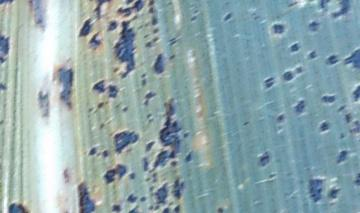tarspot: (112, 15, 139, 82), (156, 97, 182, 161), (54, 66, 75, 111), (111, 127, 141, 156), (75, 180, 97, 213), (26, 1, 48, 33), (103, 162, 126, 185), (115, 1, 146, 18), (307, 176, 325, 203), (342, 47, 360, 72), (330, 1, 352, 20), (153, 181, 169, 206), (89, 1, 110, 20), (36, 89, 49, 119), (168, 177, 184, 201), (150, 150, 168, 171), (78, 18, 96, 38), (1, 34, 12, 65), (151, 53, 166, 75), (87, 30, 103, 49), (6, 202, 31, 213), (105, 82, 120, 99), (142, 90, 156, 108), (328, 185, 342, 202), (262, 75, 277, 90), (257, 151, 271, 167), (292, 99, 306, 114), (143, 139, 157, 154), (91, 79, 105, 94), (319, 94, 337, 105), (336, 149, 348, 164), (351, 83, 360, 103), (324, 54, 339, 66), (307, 19, 319, 34), (349, 119, 360, 135), (288, 42, 302, 54), (123, 193, 139, 203), (106, 20, 118, 33), (272, 23, 285, 35), (281, 70, 293, 82), (141, 156, 150, 172), (318, 120, 329, 133), (126, 204, 140, 213), (285, 1, 300, 9), (140, 72, 148, 87), (62, 167, 69, 184), (150, 13, 159, 26), (352, 172, 360, 186), (111, 203, 122, 213), (222, 12, 233, 22), (294, 65, 304, 76), (318, 1, 330, 10), (344, 112, 352, 125), (276, 113, 286, 123), (141, 31, 152, 40), (184, 150, 192, 162), (88, 146, 97, 156), (308, 50, 318, 59), (168, 36, 177, 46), (1, 81, 8, 93), (1, 1, 15, 7), (173, 204, 182, 213), (151, 35, 160, 44), (144, 40, 153, 49), (120, 106, 130, 114), (215, 206, 226, 213), (167, 53, 176, 61), (147, 6, 156, 14), (151, 26, 160, 34), (253, 14, 262, 22), (189, 15, 199, 22), (96, 102, 106, 109), (102, 148, 108, 159), (128, 172, 136, 180), (337, 105, 345, 113), (153, 204, 160, 213), (241, 120, 250, 127), (169, 161, 178, 168), (268, 171, 277, 178), (161, 207, 171, 213), (139, 195, 146, 203), (147, 204, 154, 212), (338, 133, 346, 140), (112, 67, 120, 74), (99, 120, 104, 131), (147, 1, 156, 7), (87, 106, 94, 113), (183, 130, 189, 138), (1, 118, 6, 127), (192, 9, 199, 15), (136, 24, 143, 30), (144, 176, 151, 182), (124, 1, 134, 5), (166, 1, 173, 6), (143, 22, 149, 27), (146, 112, 151, 118)
